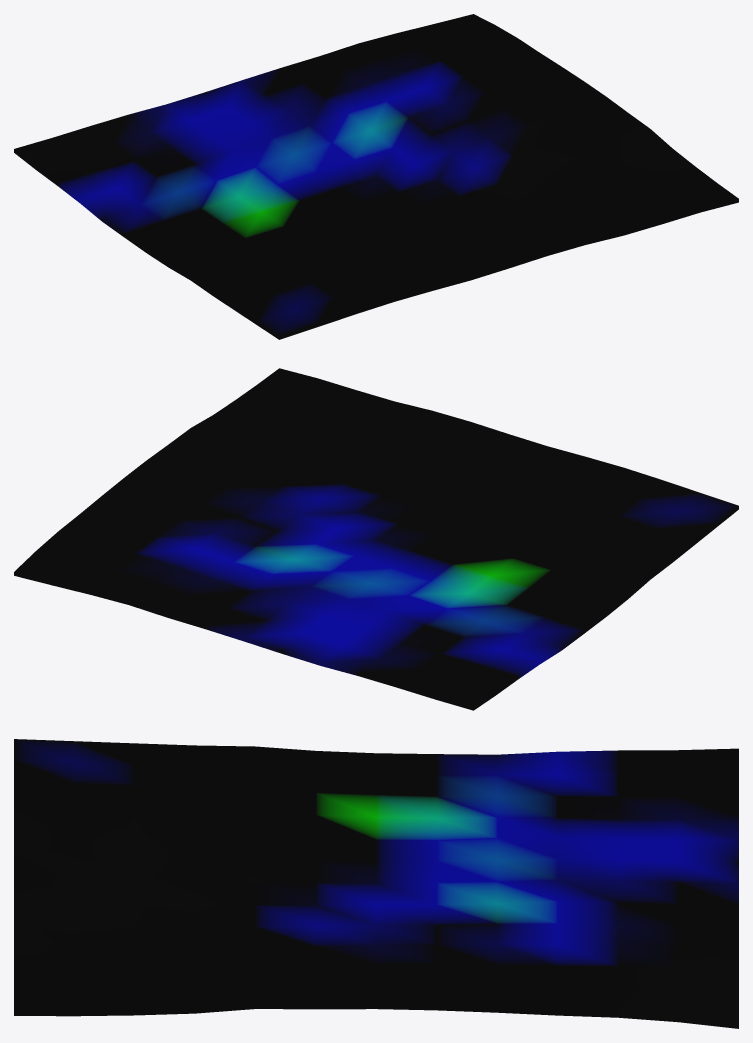
File: coast_2_3.glb
3 renders of one model, top to bottom at view 1: azimuth 30°, elevation 25°; view 2: azimuth 150°, elevation 25°; view 3: azimuth 270°, elevation 25°, orthographic. The views are drawn at different scales.
Parts seen in each view (by area): view 1: terrain; view 2: terrain; view 3: terrain.
Part boxes in pixels (bbox=[...]): terrain: bbox=[14, 14, 738, 339]; terrain: bbox=[14, 368, 738, 710]; terrain: bbox=[14, 739, 738, 1028].
Bounding box in the file's own units: 192 × 18.21 × 192.
